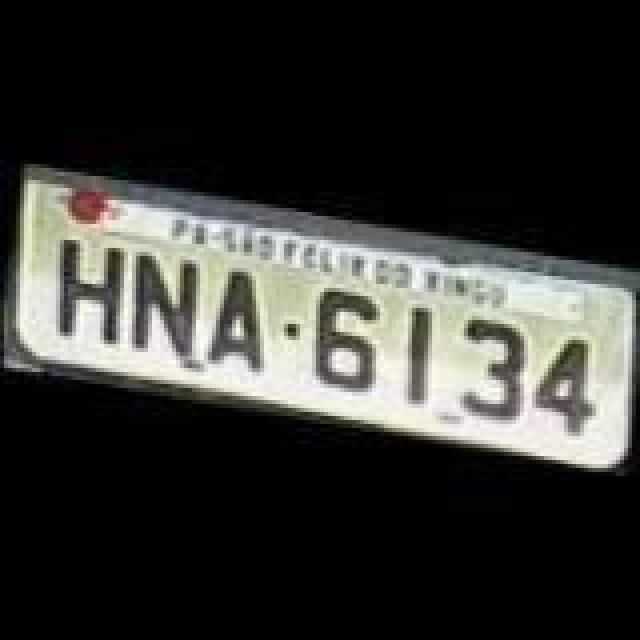1: (386, 302, 442, 406)
3: (440, 312, 540, 428)
4: (520, 328, 616, 448)
6: (304, 288, 388, 400)
A: (202, 266, 282, 378)
H: (38, 232, 142, 352)
N: (114, 248, 210, 364)
